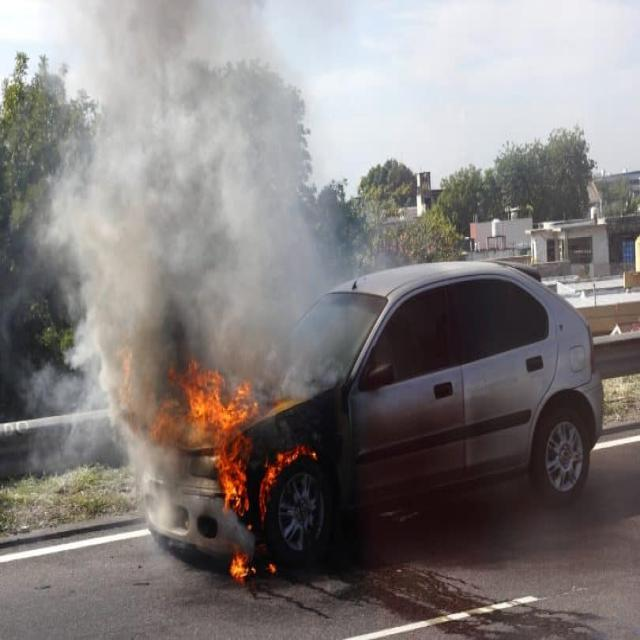fire: (164, 365, 253, 511), (230, 551, 250, 579)
smoke: (97, 8, 296, 348)
